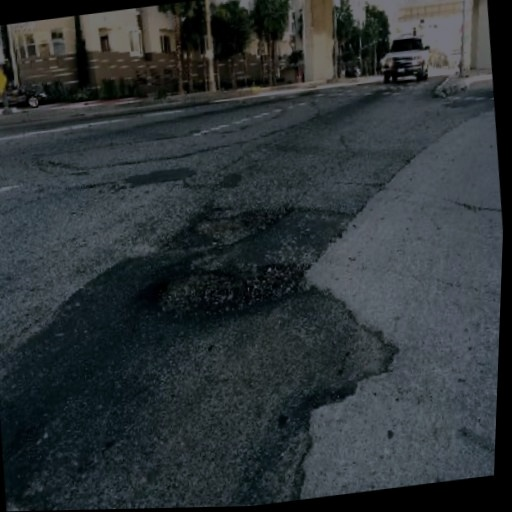pothole: (146, 250, 317, 329), (190, 197, 302, 249)
